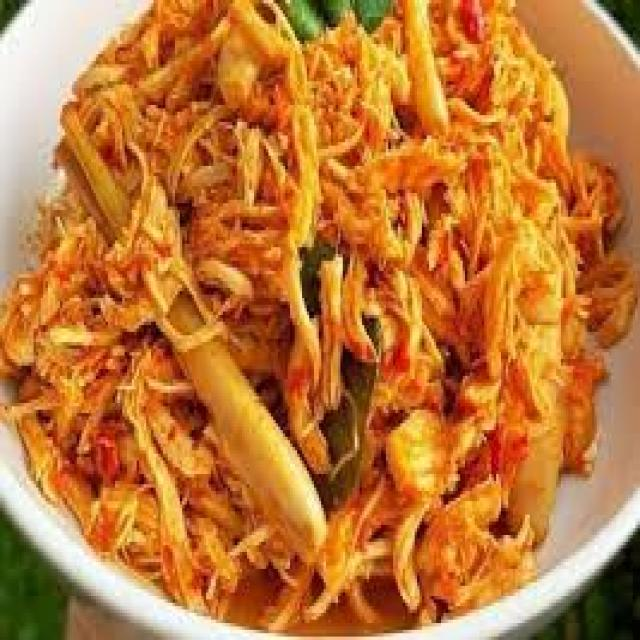ayam_suwir: (1, 0, 634, 616)
